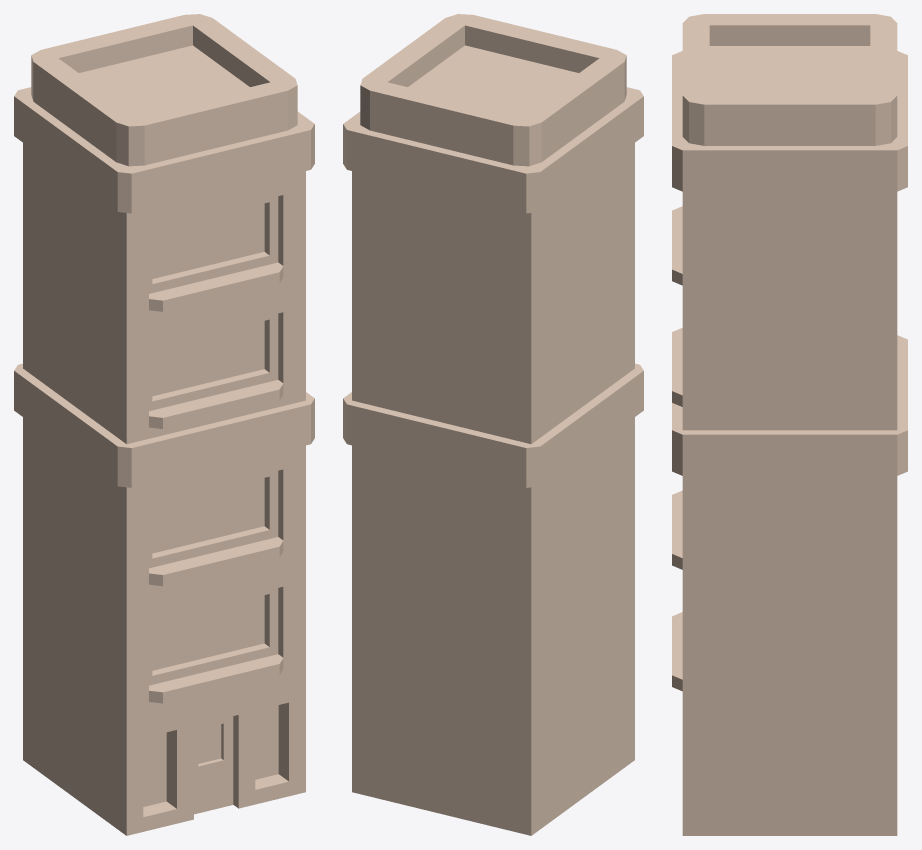
File: building-sample-tower-d.obj
3 views of the same model, side by side, from view 1: azimuth 30°, elevation 25°; view 2: azimuth 150°, elevation 25°; view 3: azimuth 270°, elevation 25° (orthographic). The views are drawn at different scales.
Size of the model in its own units: 1.1 by 3.76 by 1.1.
